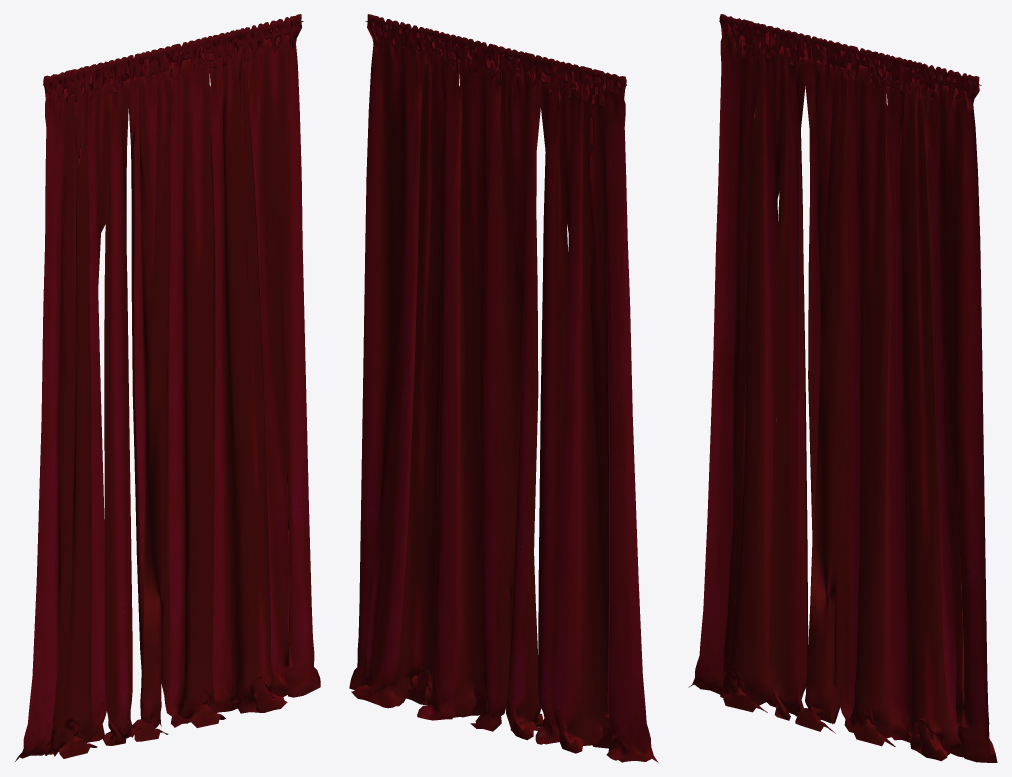
The model's file is fixture-curtain-oxblood-velvet.glb.
3 renders of one model, left to right at view 1: azimuth 30°, elevation 25°; view 2: azimuth 150°, elevation 25°; view 3: azimuth 330°, elevation 25°, orthographic.
Parts seen in each view (by area): view 1: tripo_node_5c8ba505-9e50-4b4e-9ac9-41b64ff50f96; view 2: tripo_node_5c8ba505-9e50-4b4e-9ac9-41b64ff50f96; view 3: tripo_node_5c8ba505-9e50-4b4e-9ac9-41b64ff50f96.
Part boxes in pixels (left/top/right/bottom): tripo_node_5c8ba505-9e50-4b4e-9ac9-41b64ff50f96: left=15, top=14, right=320, bottom=761; tripo_node_5c8ba505-9e50-4b4e-9ac9-41b64ff50f96: left=349, top=14, right=658, bottom=762; tripo_node_5c8ba505-9e50-4b4e-9ac9-41b64ff50f96: left=688, top=14, right=997, bottom=762.
Size of the model in its own units: 1.2 by 2.55 by 0.1.
1 material, 1 textured.
